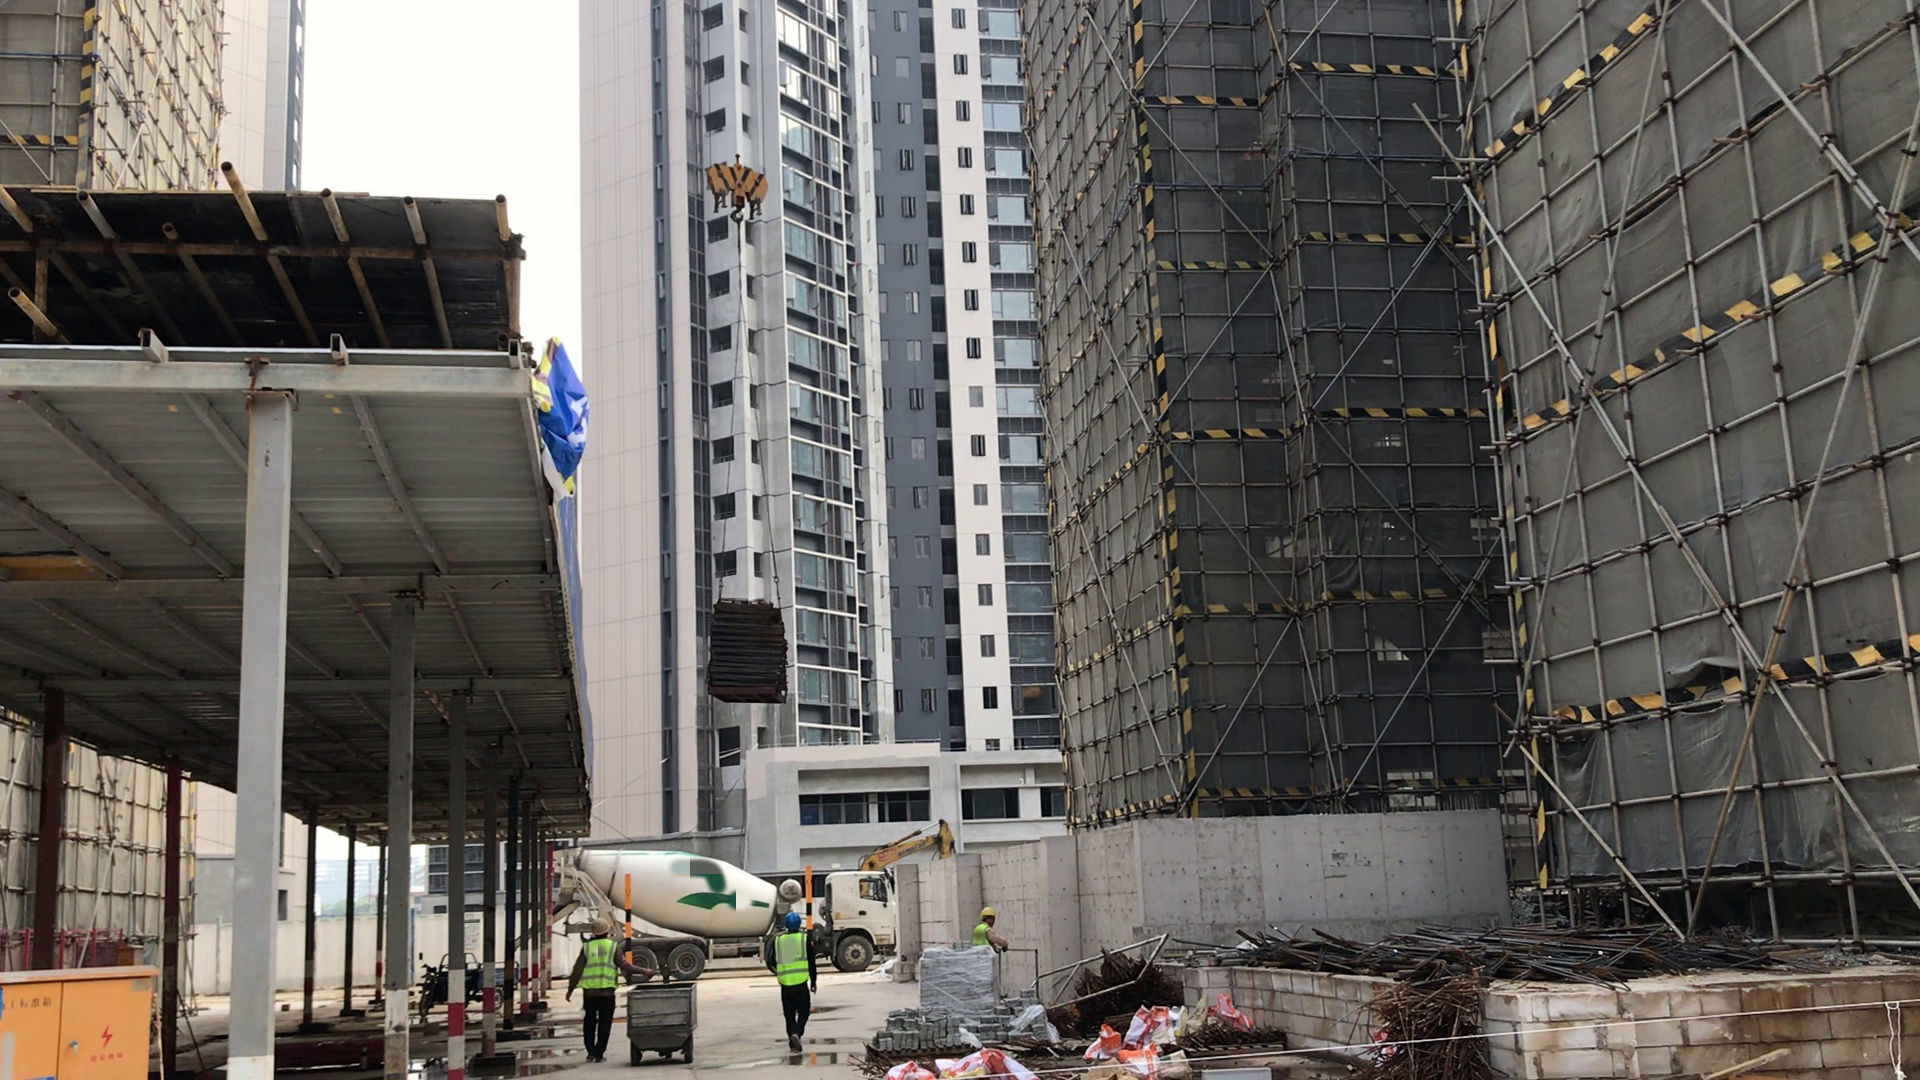brick: (871, 994, 1029, 1053)
helmet: (586, 909, 620, 935), (779, 911, 806, 937), (977, 901, 996, 930)
hook: (697, 158, 774, 230)
person: (765, 906, 834, 1077), (572, 904, 636, 1059), (964, 892, 1015, 976)
vest: (768, 925, 811, 993), (576, 937, 619, 997), (967, 916, 997, 950)
